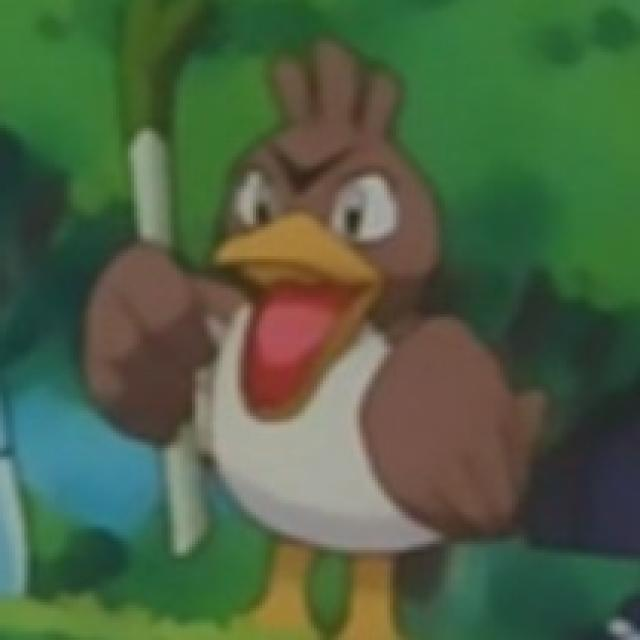Farfetchd: (118, 40, 500, 610)
